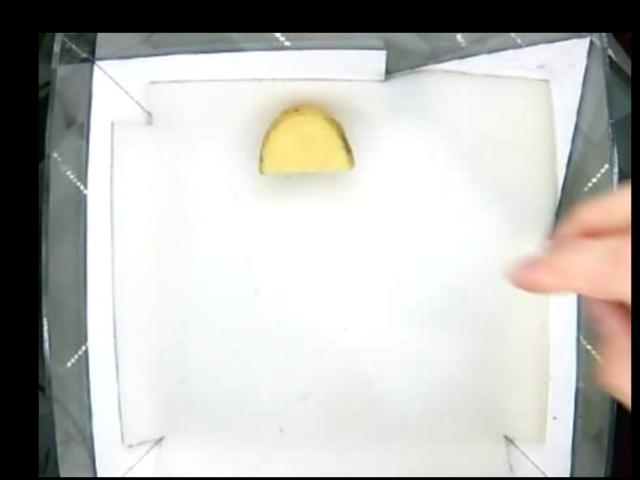Potato: (258, 106, 355, 174)
